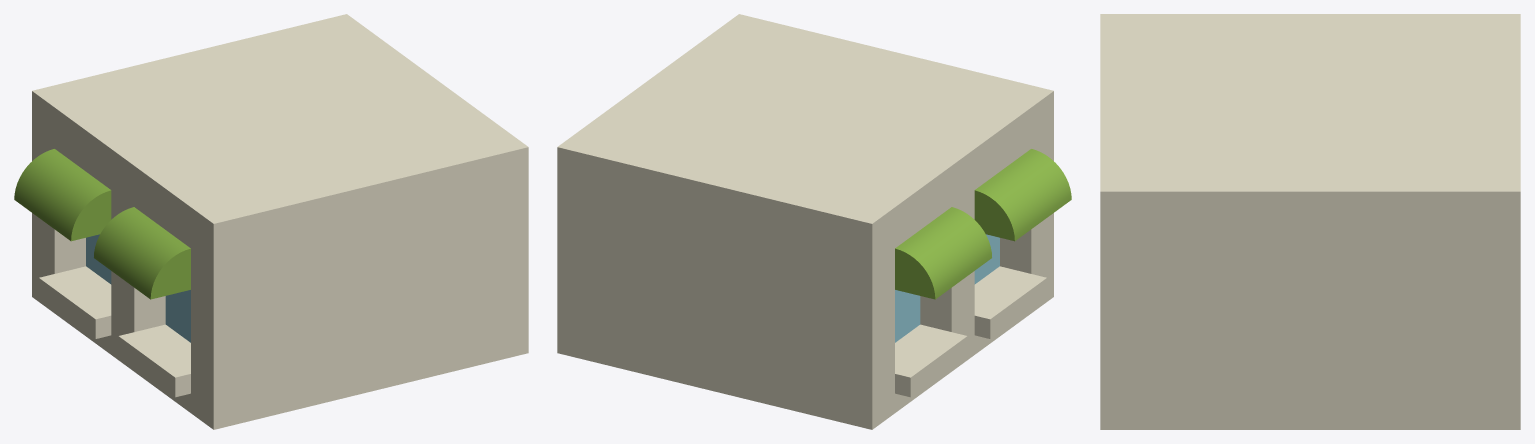
File: modularBuildings_033.obj
3 views of the same model, side by side, from view 1: azimuth 30°, elevation 25°; view 2: azimuth 150°, elevation 25°; view 3: azimuth 270°, elevation 25° (orthographic). The views are drawn at different scales.
Visible parts, largest first — view 1: Mesh1 Group1 Model; view 2: Mesh1 Group1 Model; view 3: Mesh1 Group1 Model.
Part boxes in pixels (x1=…): Mesh1 Group1 Model: x1=14, y1=14, x2=528, y2=429; Mesh1 Group1 Model: x1=557, y1=14, x2=1071, y2=429; Mesh1 Group1 Model: x1=1100, y1=14, x2=1520, y2=429.
Size of the model in its own units: 1.13 by 0.625 by 1.
